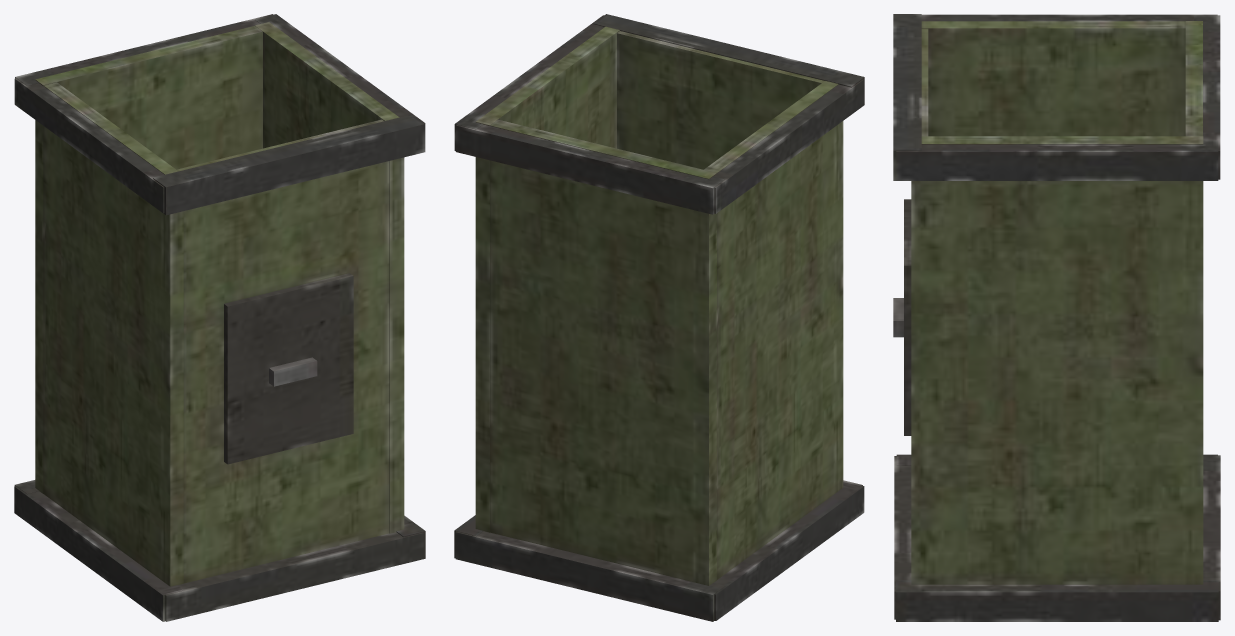
Rendered from feItemChute.glb.
The picture shows the model from 3 angles, left to right: view 1: azimuth 30°, elevation 25°; view 2: azimuth 150°, elevation 25°; view 3: azimuth 270°, elevation 25°; orthographic projection. The views are drawn at different scales.
Visible parts, largest first — view 1: feItemChute_Base; view 2: feItemChute_Base; view 3: feItemChute_Base.
Boxes of the visible parts, x1,y1,x2,y2 form: feItemChute_Base: [14, 14, 425, 621]; feItemChute_Base: [454, 14, 864, 621]; feItemChute_Base: [893, 14, 1220, 621].
Size of the model in its own units: 0.6324 by 1 by 0.6336.
Materials: 1 (1 with a texture image).
